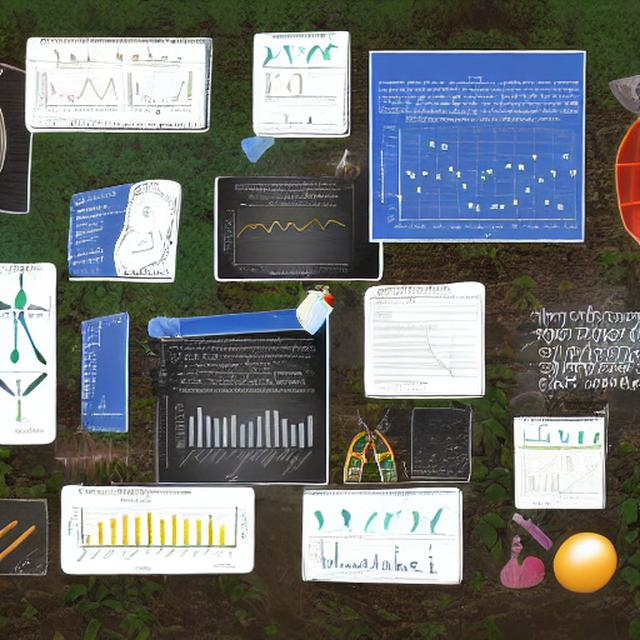Graph: (375, 114, 582, 239), (161, 388, 326, 483), (63, 488, 207, 571), (221, 200, 352, 278), (34, 66, 119, 115), (309, 535, 380, 577), (548, 468, 599, 498)
